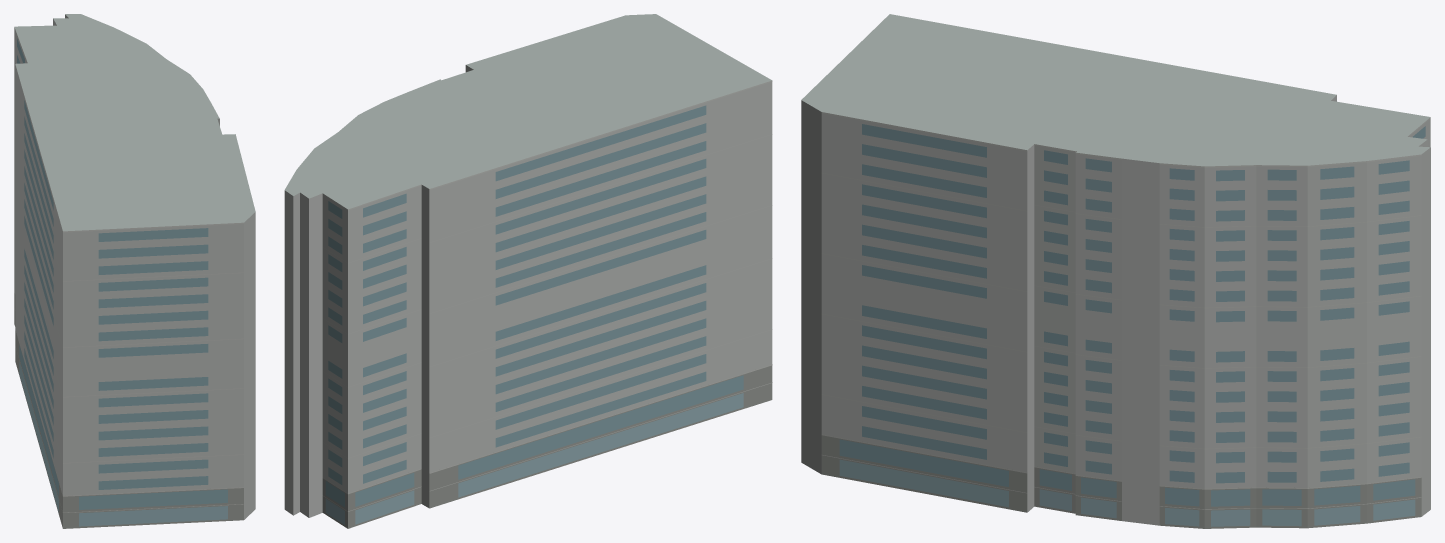
Rendered from survey-upis-32741148.glb.
3 views of the same model, side by side, from view 1: azimuth 30°, elevation 25°; view 2: azimuth 150°, elevation 25°; view 3: azimuth 270°, elevation 25° (orthographic). The views are drawn at different scales.
Visible parts, largest first — view 1: survey-upis-32741148.tmp; view 2: survey-upis-32741148.tmp; view 3: survey-upis-32741148.tmp.
Part boxes in pixels (left/top/right/bottom): survey-upis-32741148.tmp: left=14, top=14, right=255, bottom=528; survey-upis-32741148.tmp: left=284, top=14, right=772, bottom=528; survey-upis-32741148.tmp: left=801, top=14, right=1430, bottom=528.
Bounding box in the file's own units: 54.04 × 59.9 × 94.3.
